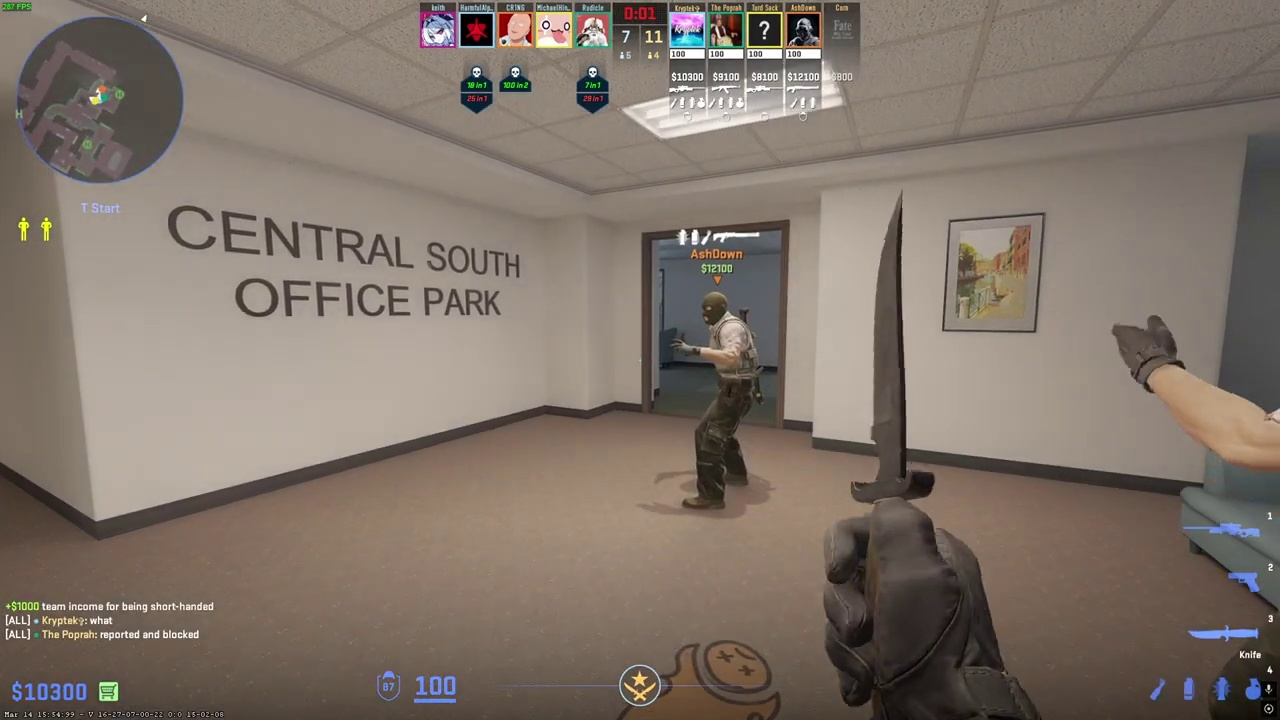Terrorist: (683, 291, 764, 511)
